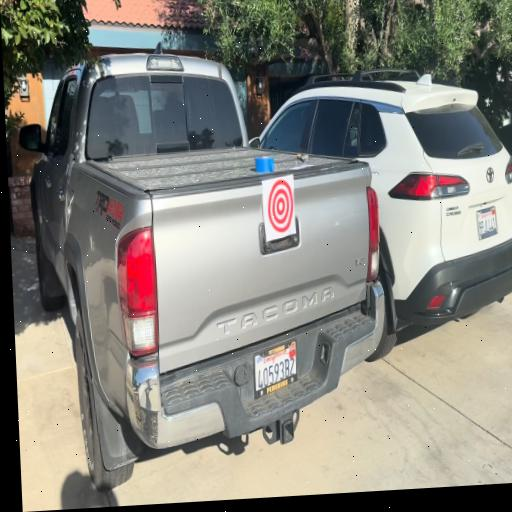bullseye: (265, 175, 295, 241)
